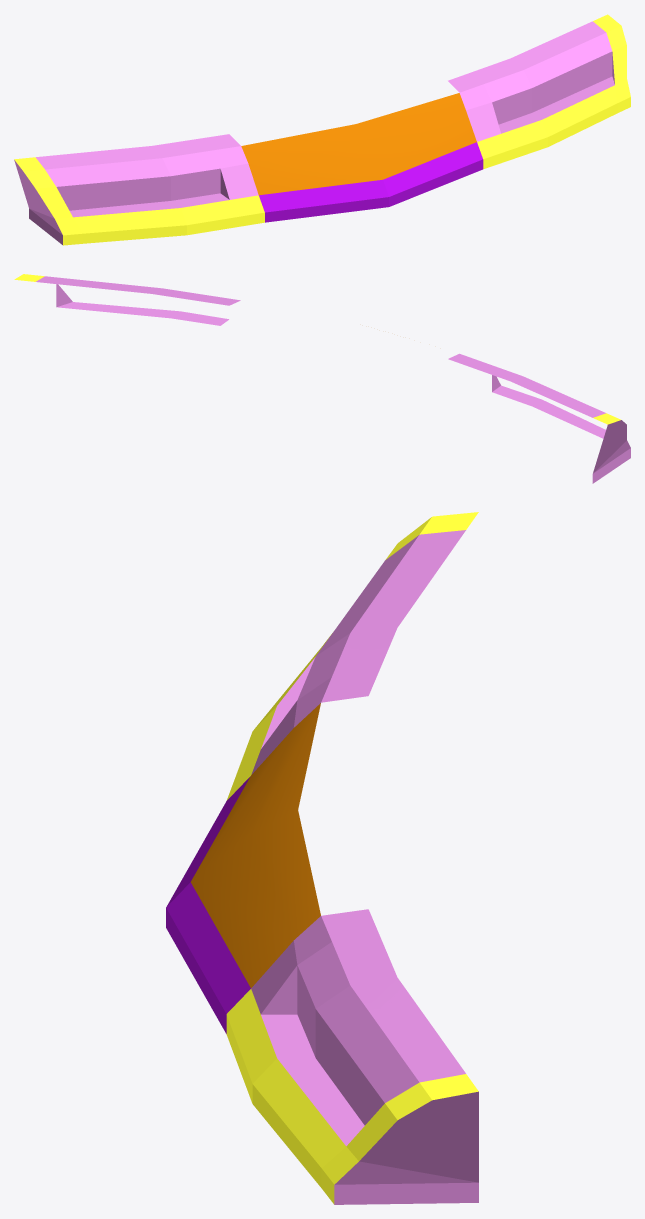
Rendered from LuxBumper00E01.gltf.
The picture shows the model from 3 angles, top to bottom: view 1: azimuth 30°, elevation 25°; view 2: azimuth 150°, elevation 25°; view 3: azimuth 270°, elevation 25°; orthographic projection. The views are drawn at different scales.
Parts seen in each view (by area): view 1: LuxBumper00E01; view 2: LuxBumper00E01; view 3: LuxBumper00E01.
Boxes of the visible parts, x1,y1,x2,y2 form: LuxBumper00E01: (14, 14, 630, 245); LuxBumper00E01: (14, 274, 630, 483); LuxBumper00E01: (166, 512, 478, 1204).
Size of the model in its own units: 0.1824 by 0.0184 by 0.0413.
